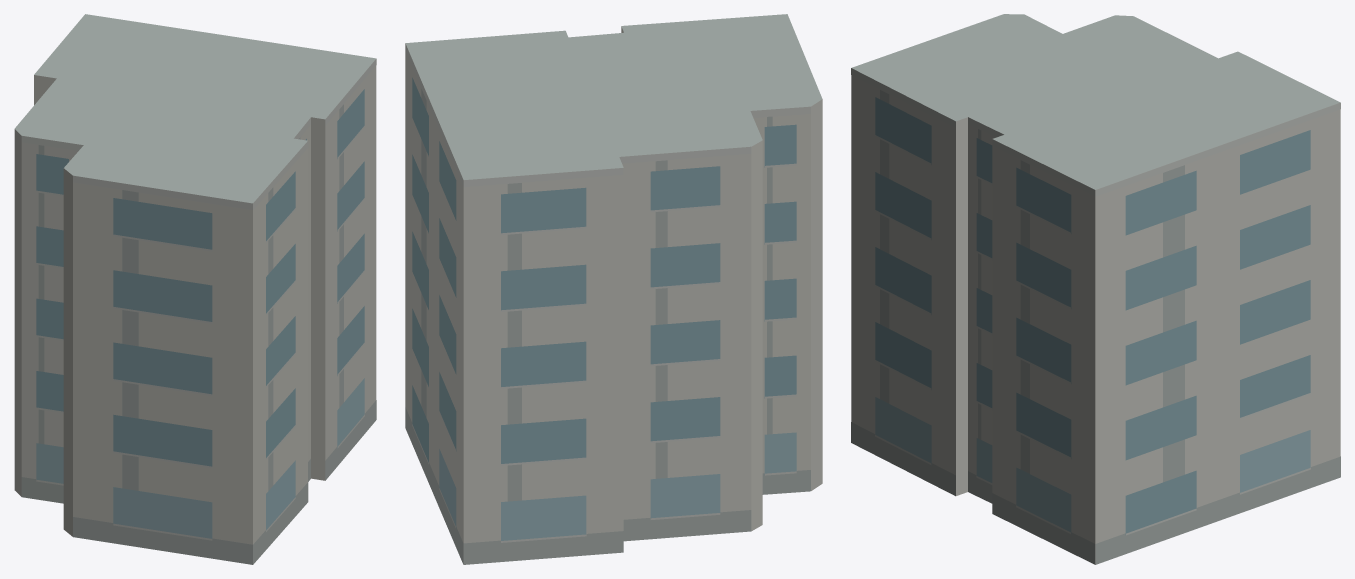
File: survey-upis-32890371.glb
The picture shows the model from 3 angles, left to right: view 1: azimuth 30°, elevation 25°; view 2: azimuth 150°, elevation 25°; view 3: azimuth 270°, elevation 25°; orthographic projection. The views are drawn at different scales.
Parts seen in each view (by area): view 1: survey-upis-32890371.tmp; view 2: survey-upis-32890371.tmp; view 3: survey-upis-32890371.tmp.
Boxes of the visible parts, x1,y1,x2,y2 form: survey-upis-32890371.tmp: (14,14,376,564); survey-upis-32890371.tmp: (405,14,822,564); survey-upis-32890371.tmp: (851,14,1340,564).
Bounding box in the file's own units: 13.2 × 13.1 × 15.51.
